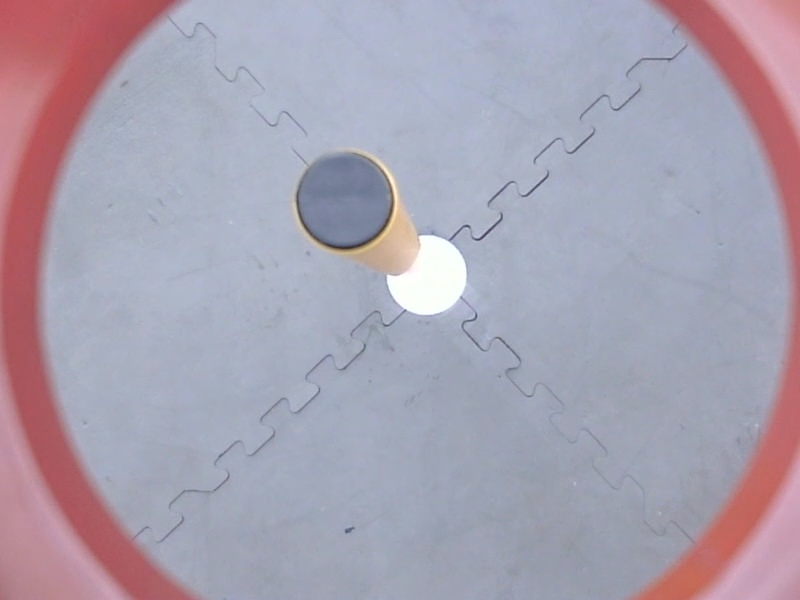tip: (288, 143, 404, 259)
